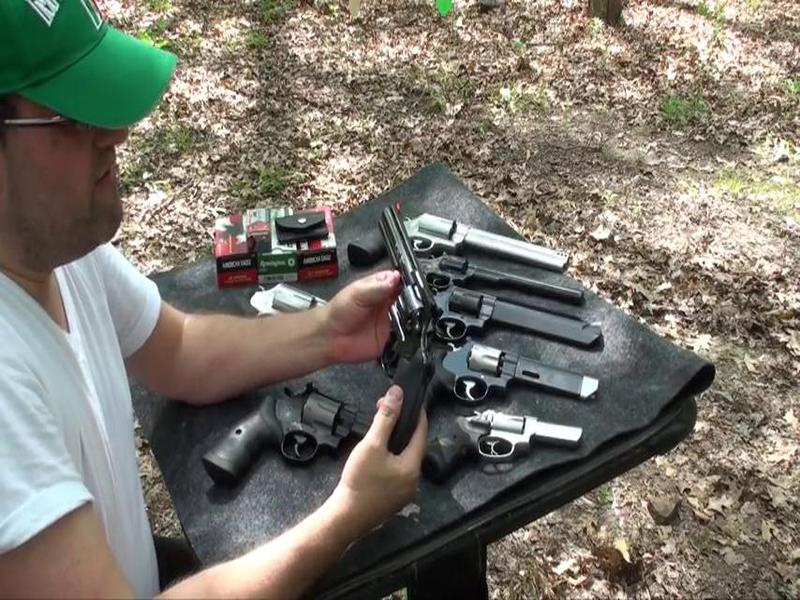Revolver: (334, 188, 462, 430)
